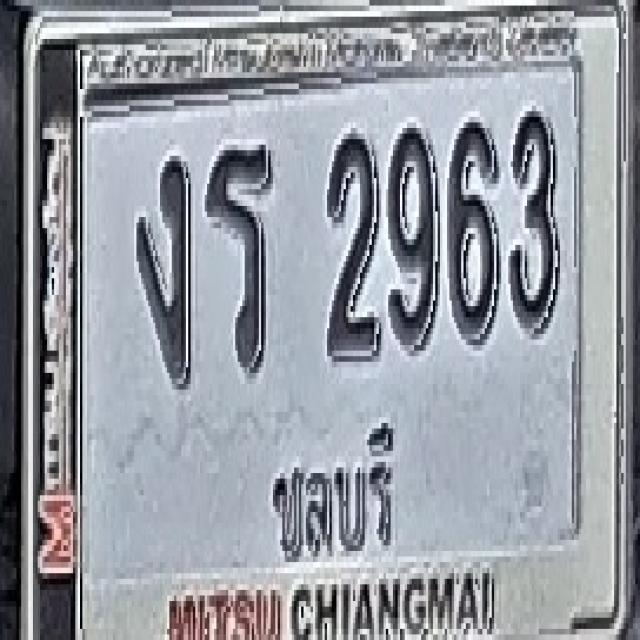2: (326, 128, 380, 356)
3: (509, 103, 559, 331)
6: (448, 117, 498, 339)
9: (388, 120, 438, 348)
A07: (135, 150, 192, 384)
A35: (205, 139, 273, 373)
CBI: (262, 397, 398, 547)
